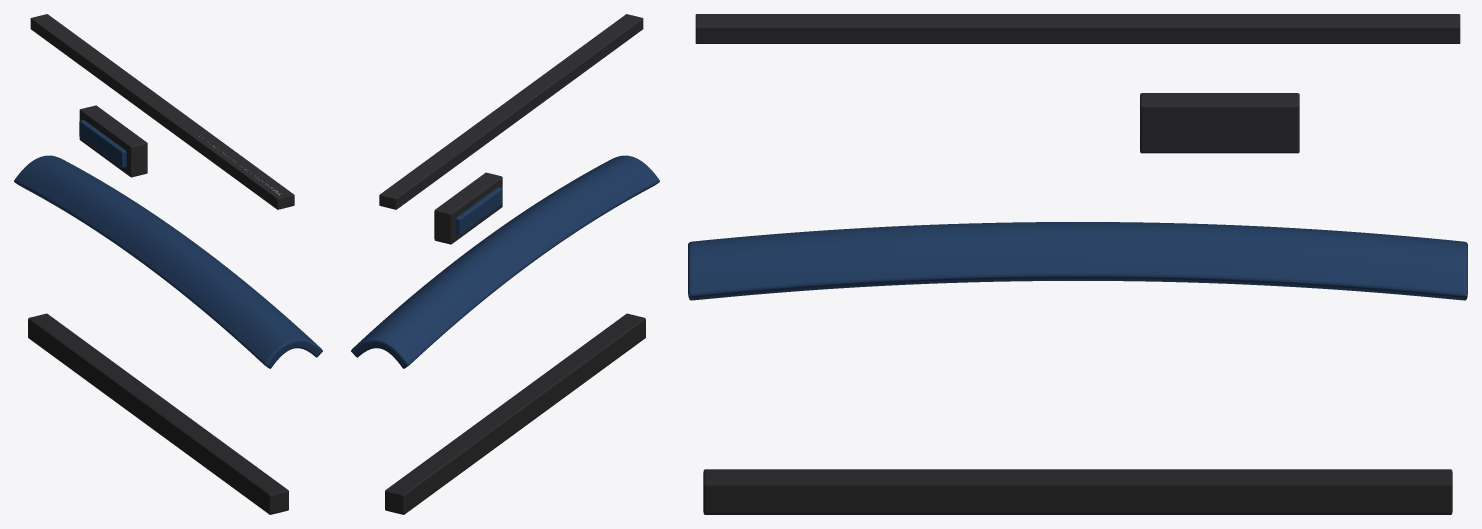
File: rear_right_door.glb
3 views of the same model, side by side, from view 1: azimuth 30°, elevation 25°; view 2: azimuth 150°, elevation 25°; view 3: azimuth 270°, elevation 25° (orthographic). The views are drawn at different scales.
Visible parts, largest first — view 1: DOOR_OUTER_SKIN_rear_right_door.glb, DOOR_LOWER_BLADE_rear_right_door.glb, DOOR_WAIST_SEAL_rear_right_door.glb, HANDLE_CUP_rear_right_door.glb, HANDLE_LEVER_rear_right_door.glb; view 2: DOOR_OUTER_SKIN_rear_right_door.glb, DOOR_LOWER_BLADE_rear_right_door.glb, DOOR_WAIST_SEAL_rear_right_door.glb, HANDLE_CUP_rear_right_door.glb, HANDLE_LEVER_rear_right_door.glb; view 3: DOOR_OUTER_SKIN_rear_right_door.glb, DOOR_LOWER_BLADE_rear_right_door.glb, DOOR_WAIST_SEAL_rear_right_door.glb, HANDLE_CUP_rear_right_door.glb.
Boxes of the visible parts, left/top/right/bottom form: DOOR_OUTER_SKIN_rear_right_door.glb: left=14, top=155, right=322, bottom=368; DOOR_LOWER_BLADE_rear_right_door.glb: left=28, top=313, right=288, bottom=514; DOOR_WAIST_SEAL_rear_right_door.glb: left=30, top=14, right=294, bottom=209; HANDLE_CUP_rear_right_door.glb: left=79, top=105, right=147, bottom=177; HANDLE_LEVER_rear_right_door.glb: left=79, top=120, right=126, bottom=167; DOOR_OUTER_SKIN_rear_right_door.glb: left=351, top=155, right=659, bottom=368; DOOR_LOWER_BLADE_rear_right_door.glb: left=385, top=313, right=645, bottom=514; DOOR_WAIST_SEAL_rear_right_door.glb: left=379, top=14, right=643, bottom=209; HANDLE_CUP_rear_right_door.glb: left=434, top=172, right=502, bottom=244; HANDLE_LEVER_rear_right_door.glb: left=455, top=187, right=502, bottom=235; DOOR_OUTER_SKIN_rear_right_door.glb: left=688, top=222, right=1467, bottom=300; DOOR_LOWER_BLADE_rear_right_door.glb: left=703, top=469, right=1452, bottom=514; DOOR_WAIST_SEAL_rear_right_door.glb: left=695, top=14, right=1460, bottom=43; HANDLE_CUP_rear_right_door.glb: left=1140, top=93, right=1299, bottom=153.
Bounding box in the file's own units: 0.1169 × 0.611 × 0.8794.
